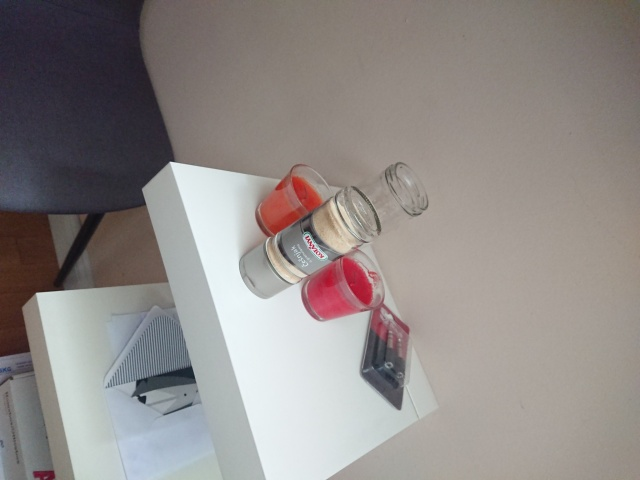Kotanyi Garlic Granules 70g: (236, 183, 385, 302)
